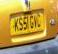5: (23, 16, 27, 30)
C: (37, 14, 41, 28)
G: (30, 15, 34, 29)
K: (14, 17, 19, 32)
S: (19, 16, 23, 31)
V: (34, 15, 37, 28)
